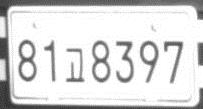1: (43, 39, 57, 84)
3: (114, 40, 135, 82)
7: (162, 40, 184, 83)
8: (90, 39, 111, 83), (17, 39, 37, 81)
9: (138, 40, 159, 84)
고: (63, 47, 85, 83)
